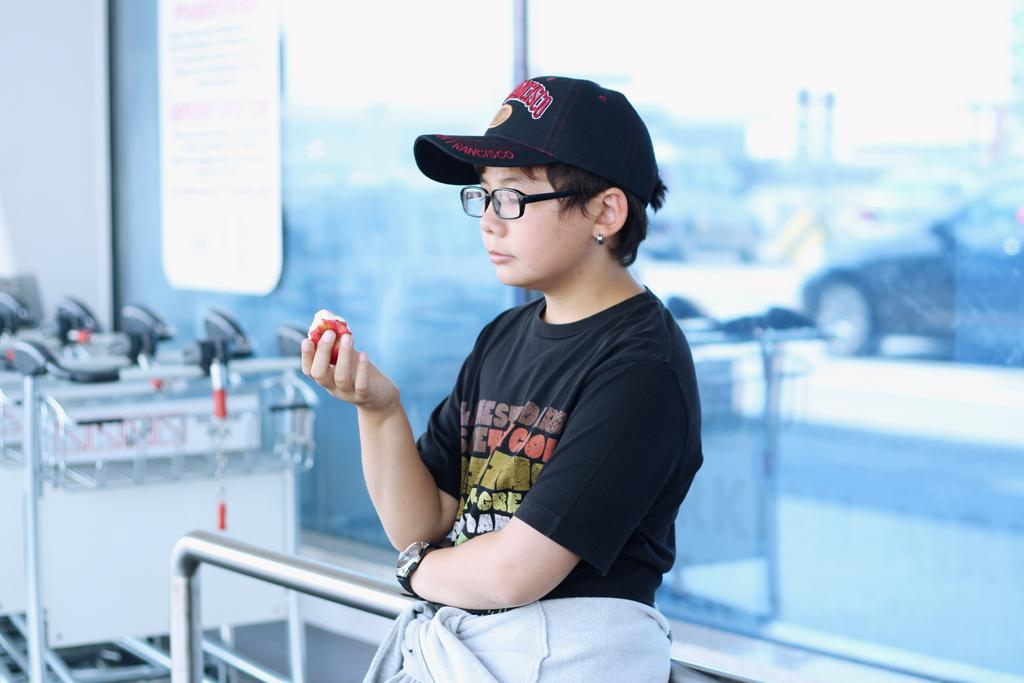Hat: (414, 70, 662, 202)
